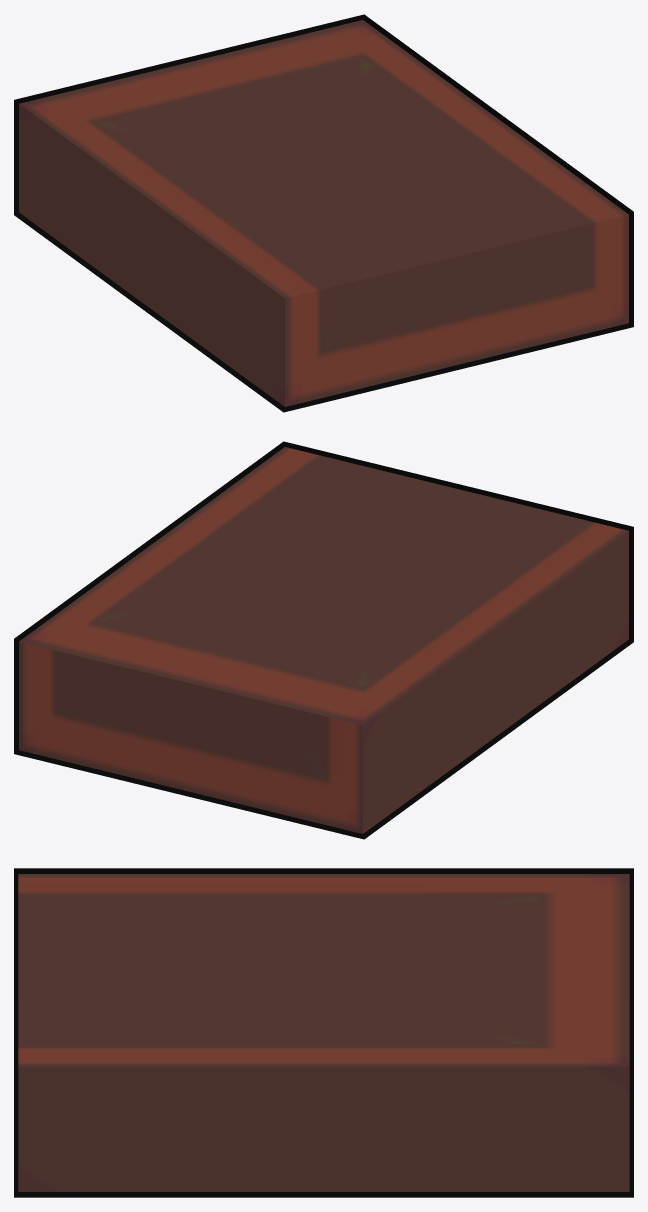
The model's file is Building_ButcherSpot_Things_Building_Production_ButcherSpot.glb.
3 views of the same model, one above another, from view 1: azimuth 30°, elevation 25°; view 2: azimuth 150°, elevation 25°; view 3: azimuth 270°, elevation 25° (orthographic). The views are drawn at different scales.
Parts seen in each view (by area): view 1: Body, Outline; view 2: Body, Outline; view 3: Body, Outline.
Part boxes in pixels (<box>): Body: <box>19,20,628,406</box>; Outline: <box>14,14,633,412</box>; Body: <box>19,447,628,833</box>; Outline: <box>14,441,633,839</box>; Body: <box>18,874,629,1191</box>; Outline: <box>14,868,633,1197</box>.
Size of the model in its own units: 0.9868 by 0.3104 by 1.32.
2 materials, 1 textured.
